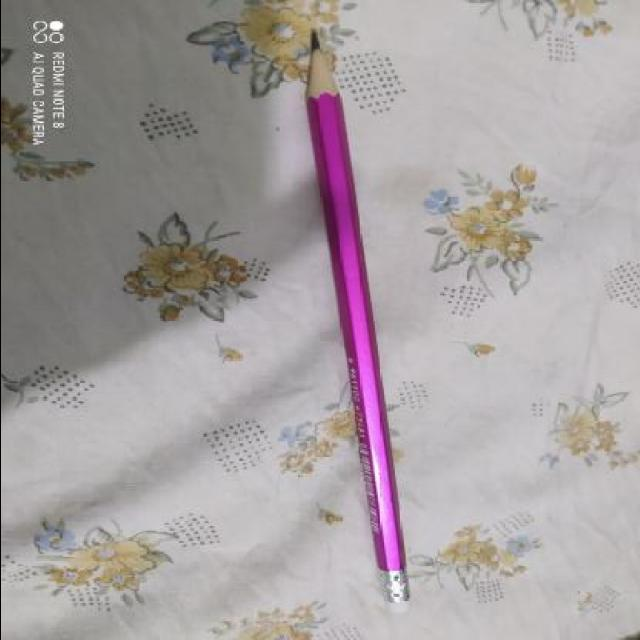pencil: (292, 26, 350, 118)
